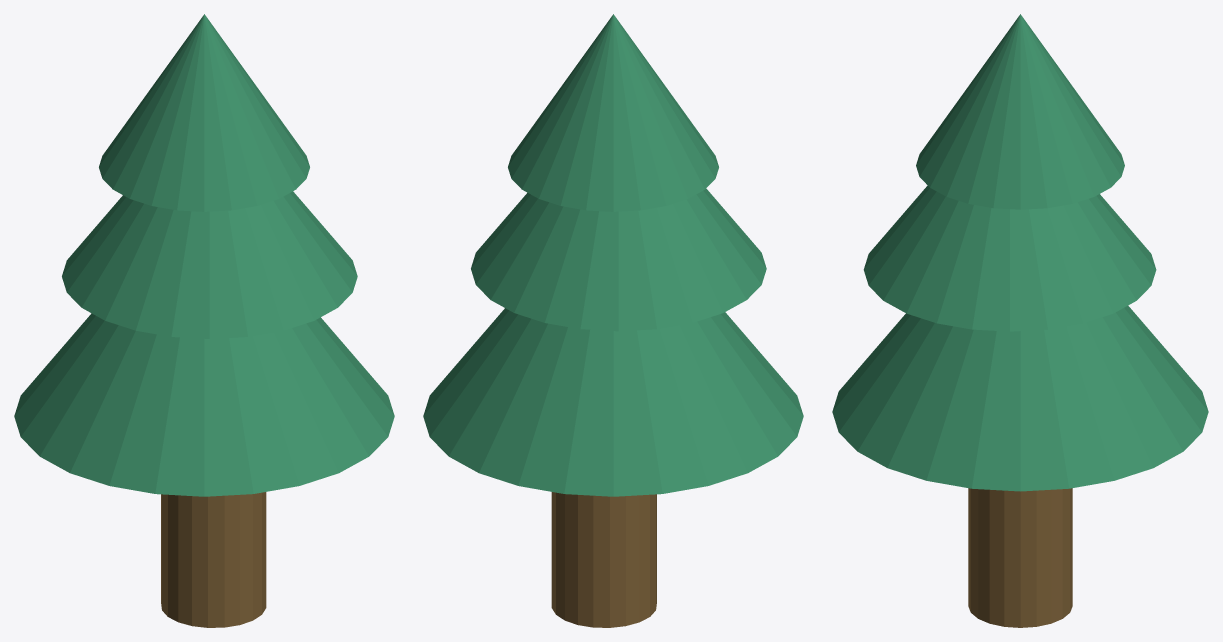
File: tree.glb
The picture shows the model from 3 angles, left to right: view 1: azimuth 30°, elevation 25°; view 2: azimuth 150°, elevation 25°; view 3: azimuth 270°, elevation 25°; orthographic projection.
Parts seen in each view (by area): view 1: Mesh_Mesh_head_geo.001_lambert2SG.001; view 2: Mesh_Mesh_head_geo.001_lambert2SG.001; view 3: Mesh_Mesh_head_geo.001_lambert2SG.001.
Boxes of the visible parts, x1,y1,x2,y2 form: Mesh_Mesh_head_geo.001_lambert2SG.001: (14, 14, 394, 627); Mesh_Mesh_head_geo.001_lambert2SG.001: (423, 14, 803, 627); Mesh_Mesh_head_geo.001_lambert2SG.001: (832, 14, 1208, 627).
Bounding box in the file's own units: 36 × 62 × 36.
